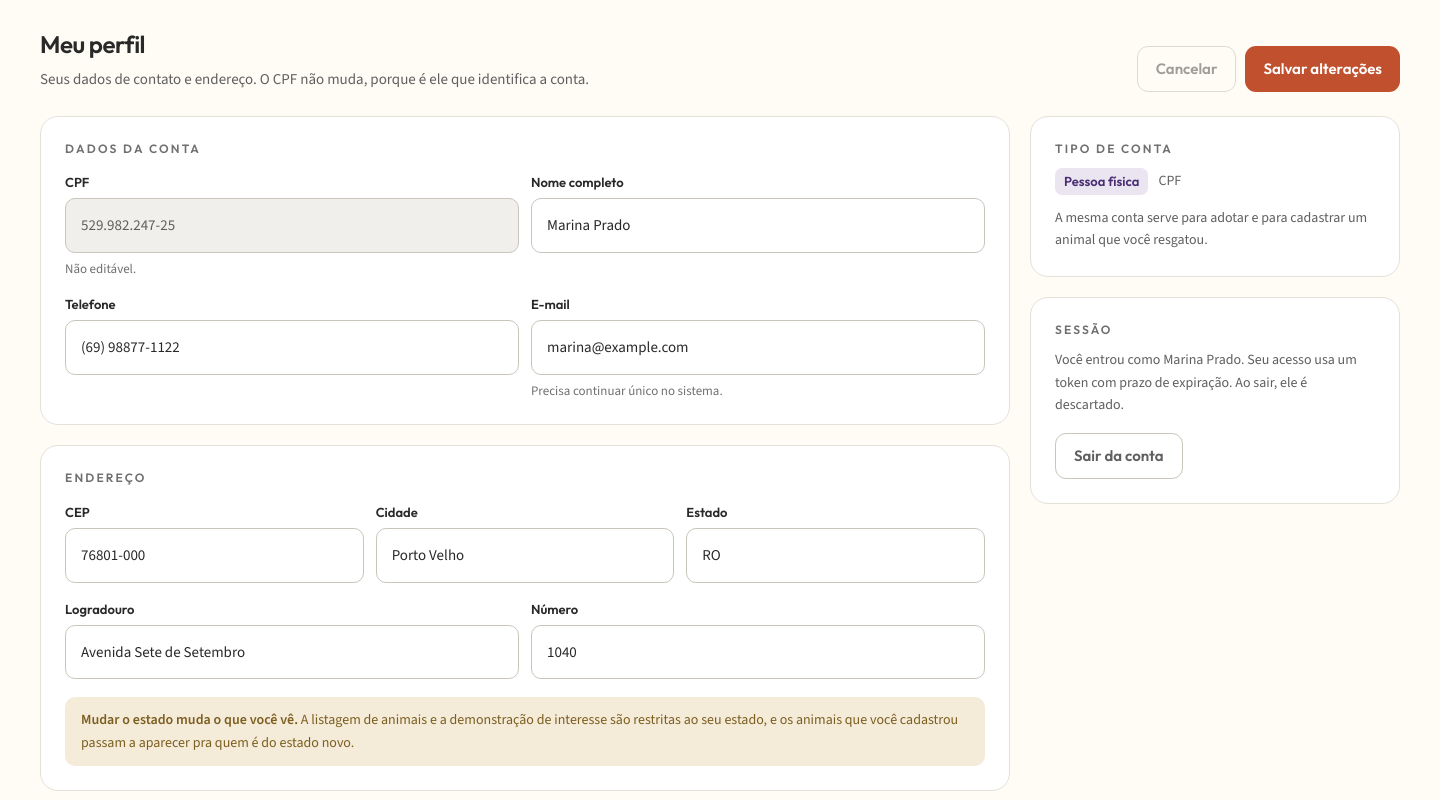
Test: salvar os dados › envia os campos editáveis sem máscara e sem o CPF, e o nome novo vai pra sessão
Expected: the button "Salvar alterações" is shown, [1245, 46, 1400, 92]
Replace the text in the field labelled "Nome completo" with "Marina Prado Souza" at (758, 225), box [531, 198, 985, 253]
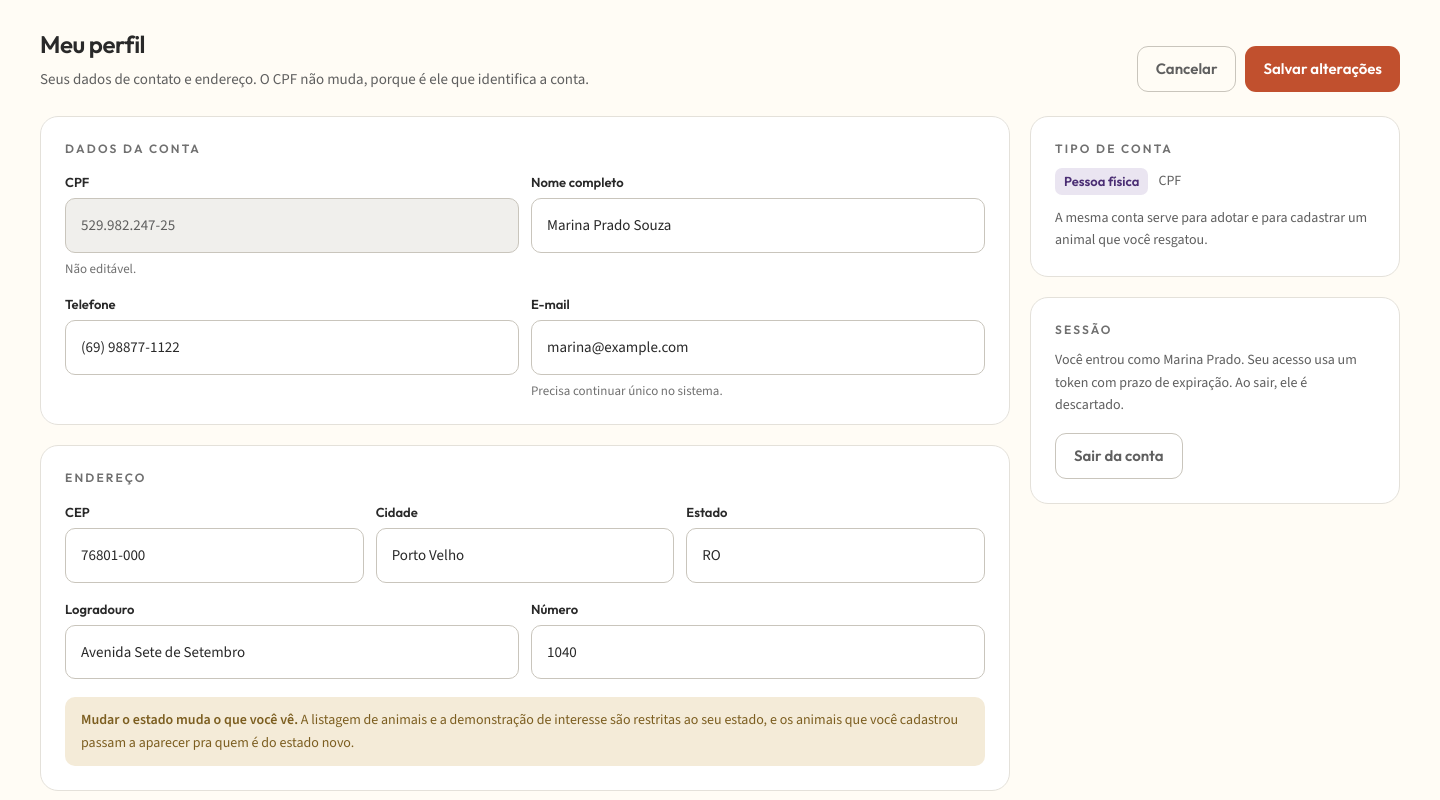
Replace the text in the field labelled "Telefone" with "69977776666" at (292, 348), box [65, 320, 519, 375]
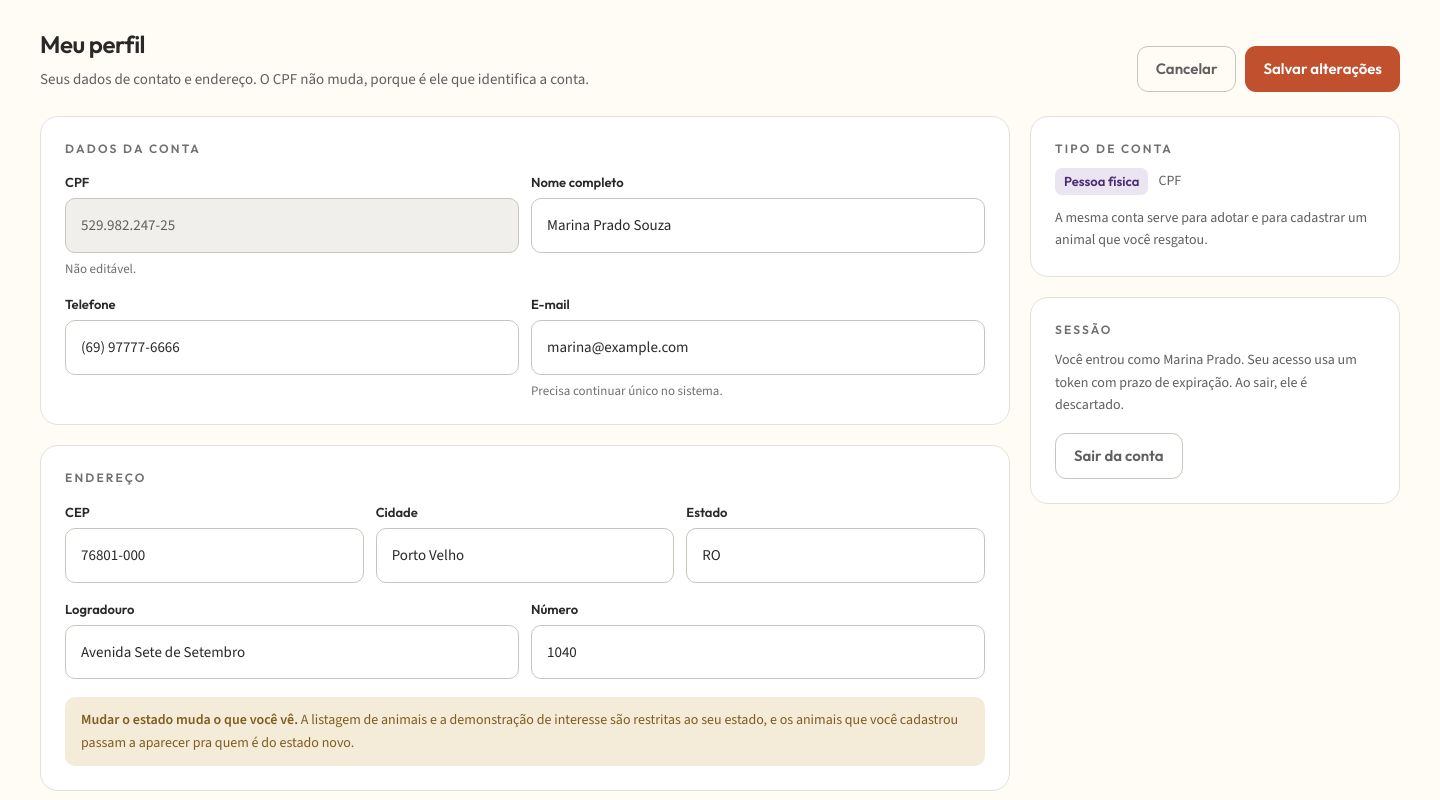
Click the button "Salvar alterações" at (1323, 68), box [1245, 46, 1400, 92]
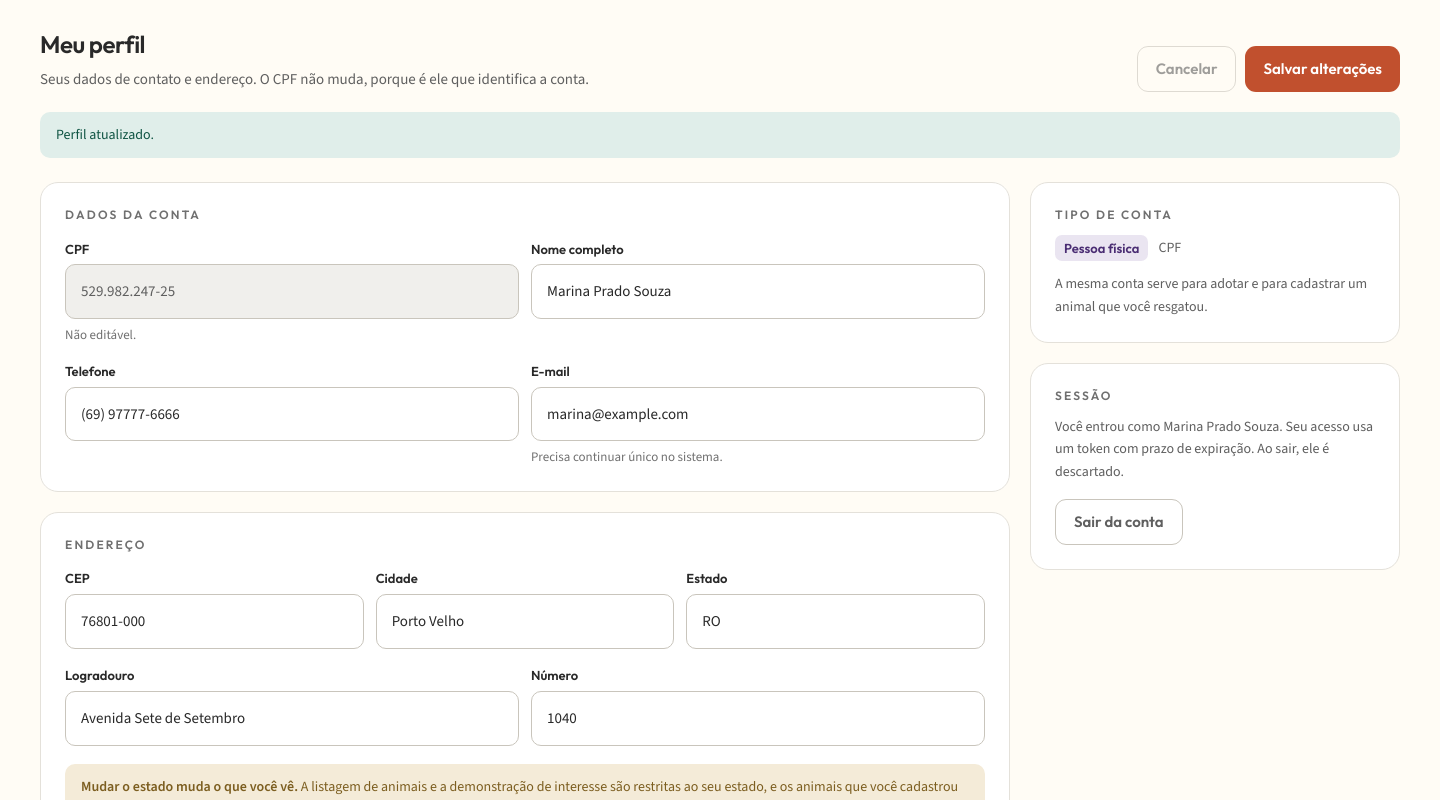
Result: the text "Perfil atualizado." is shown at [40, 112, 1400, 158]
